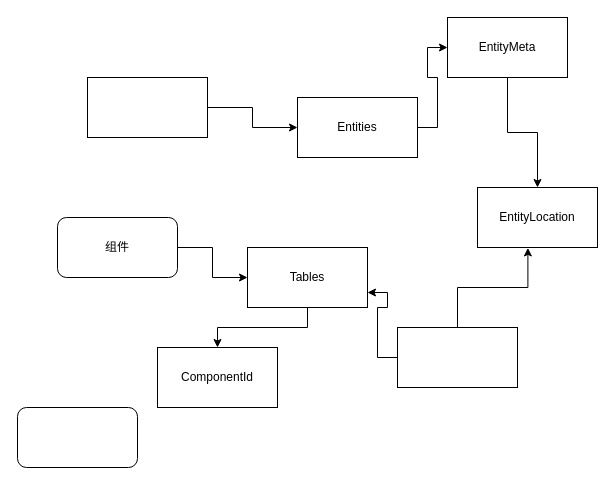
Image size: 615x485. Some labels were removed from this diagram. Here are the shapes that lost their labels. From the top down, the centre of each, then its label:
At point 147,107: "Entity".
At point 457,357: "Storage".
At point 77,437: "系统".
